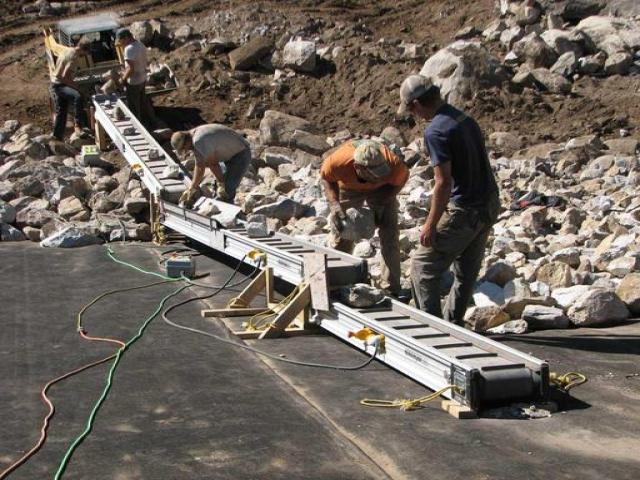conveyor: (84, 90, 555, 418)
